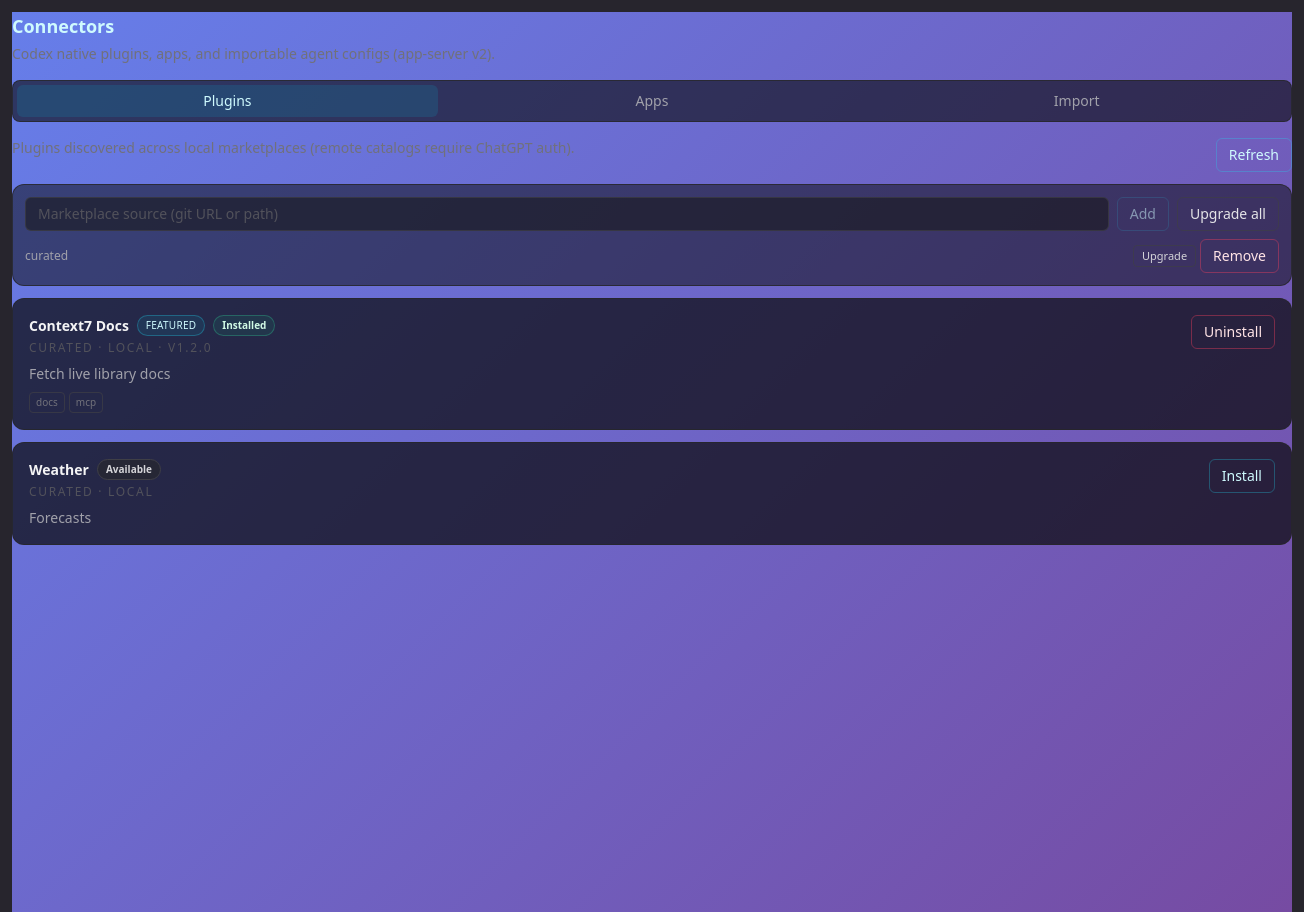
Test: ConnectorsSection › switches to Apps sub-tab and lists apps
Expected: the text "Context7 Docs" is shown, x1=29 y1=316 x2=129 y2=336
Click the button "Apps".
click(652, 101)  # box x1=442 y1=85 x2=862 y2=117
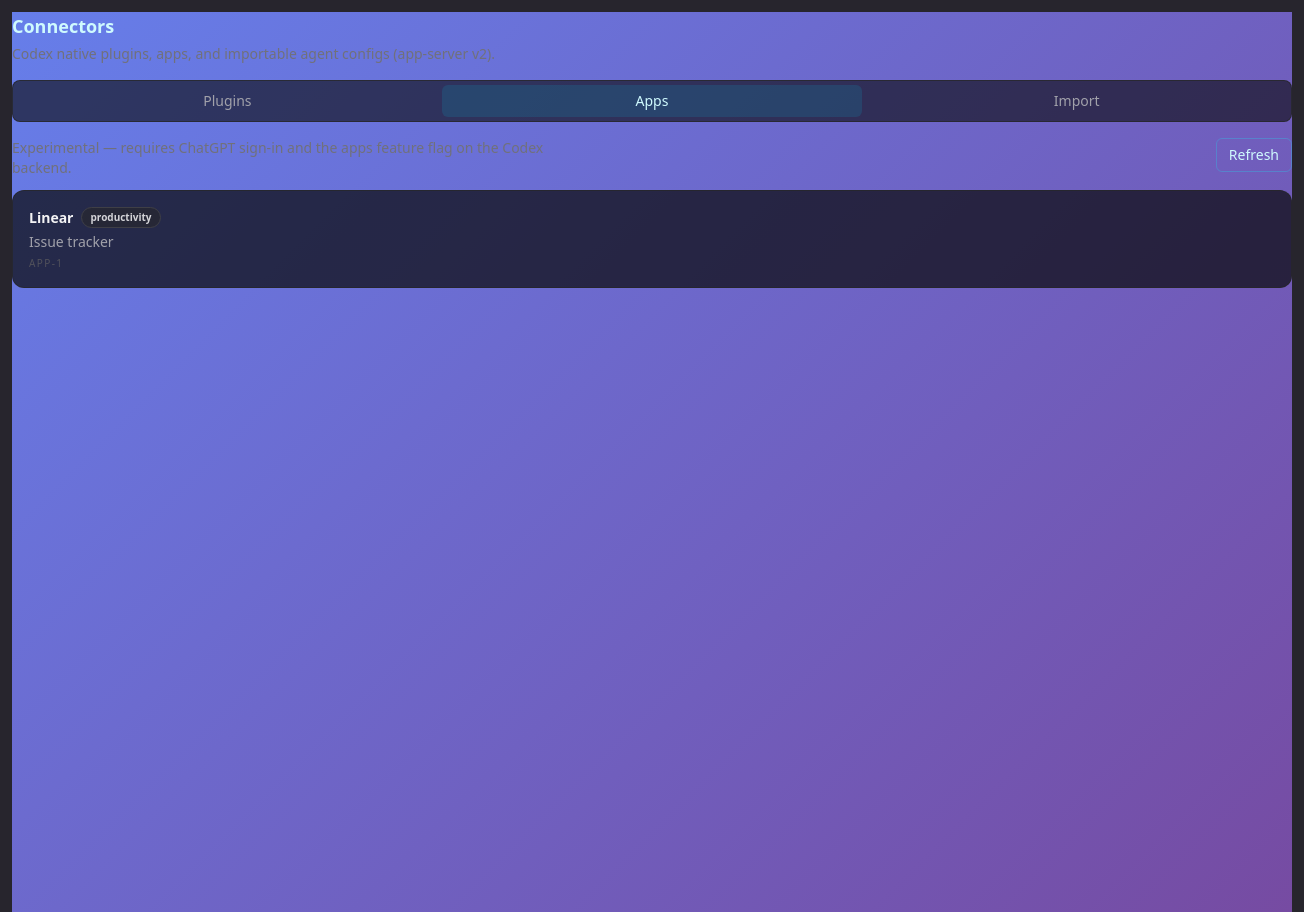
Expected: the text "Linear" is shown, x1=29 y1=208 x2=74 y2=228
Expected: the text "Issue tracker" is shown, x1=29 y1=232 x2=114 y2=251
